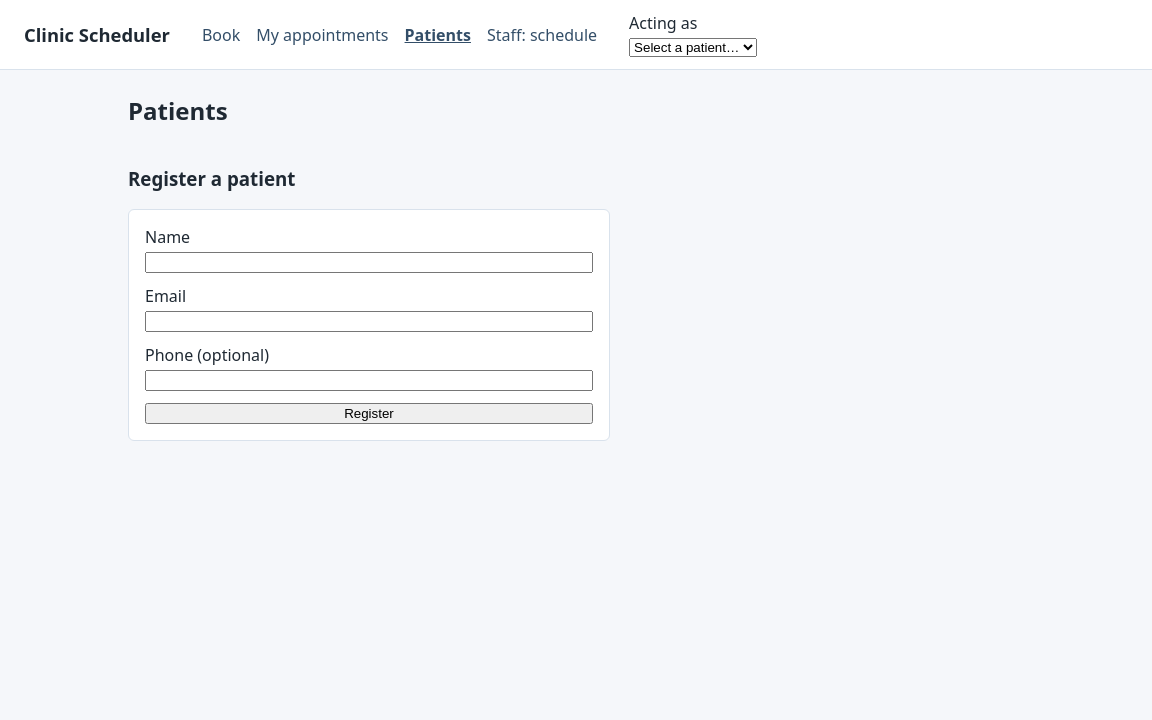
Scenario: PatientsPage › shows a validation error from the API
Type "X" into the field with test id "patient-name-input" at (369, 263), box [145, 252, 593, 273]
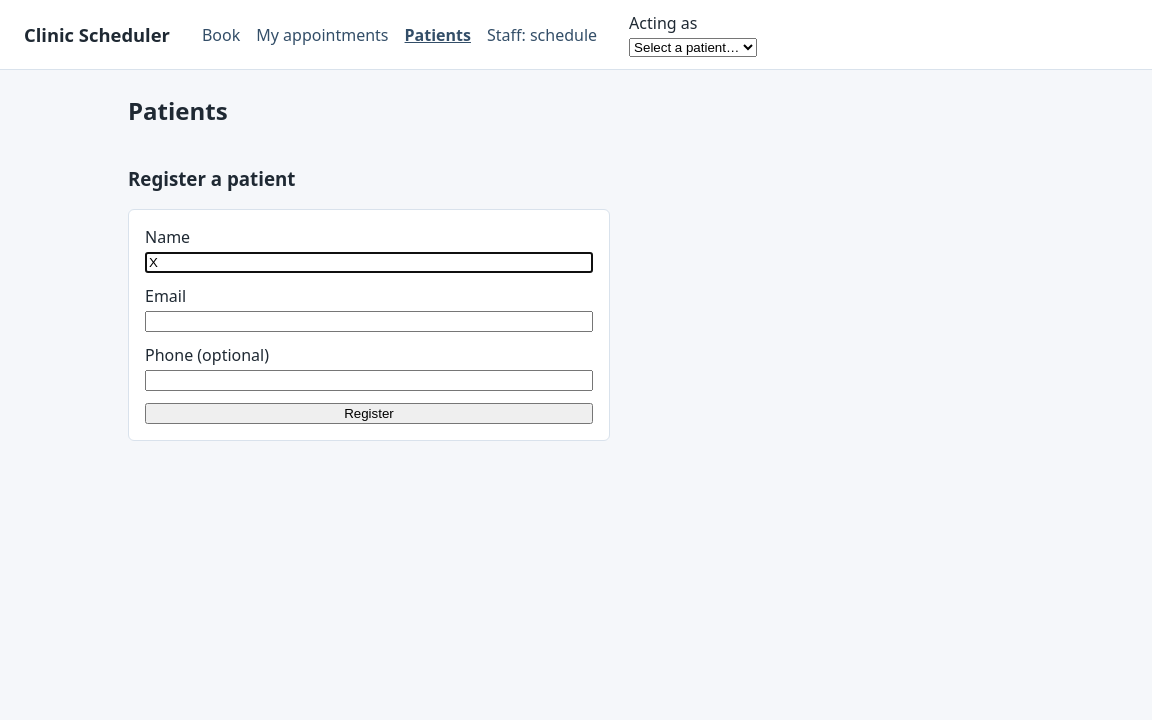
Type "x@example.com" into the field with test id "patient-email-input" at (369, 322), box [145, 311, 593, 332]
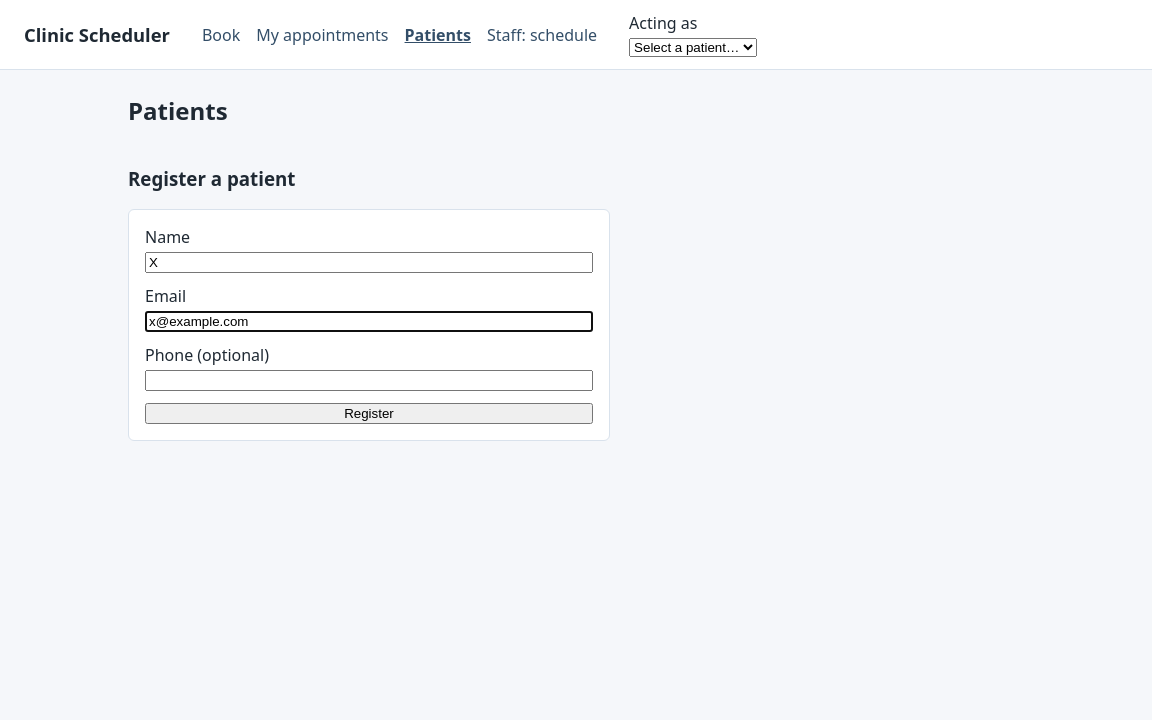
Click the button with test id "patient-submit" at (369, 414), box [145, 403, 593, 424]
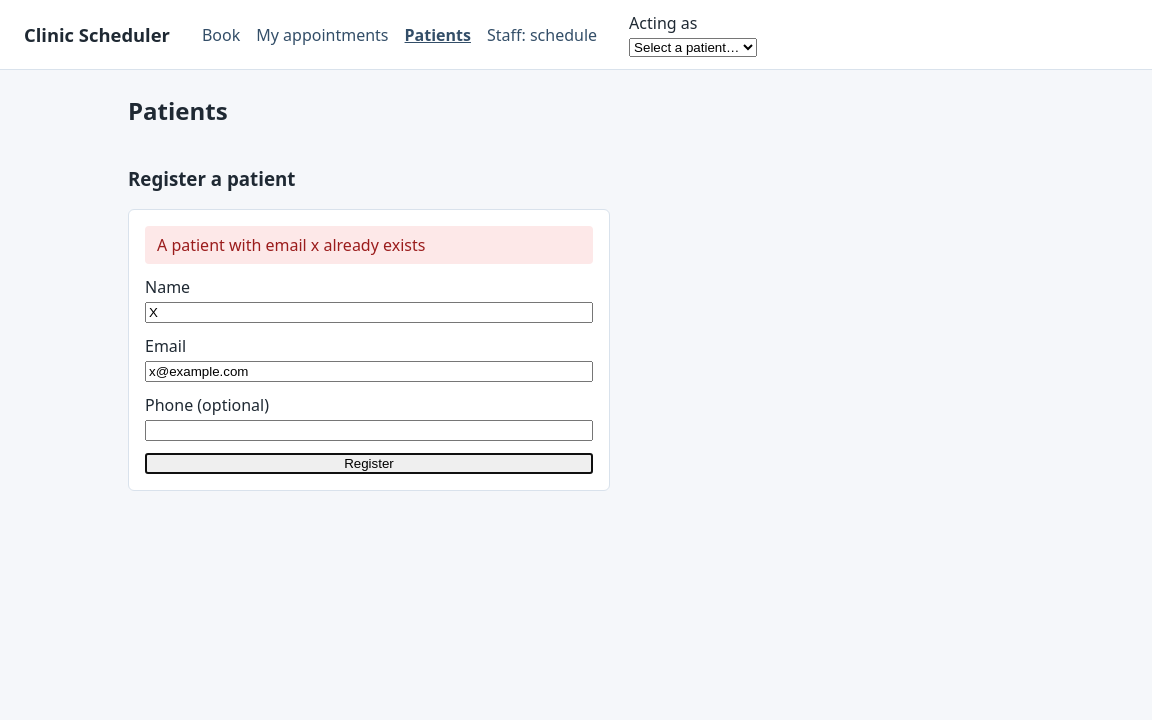
Now the message with test id "error-banner" shows "already exists", box [157, 234, 425, 256]
